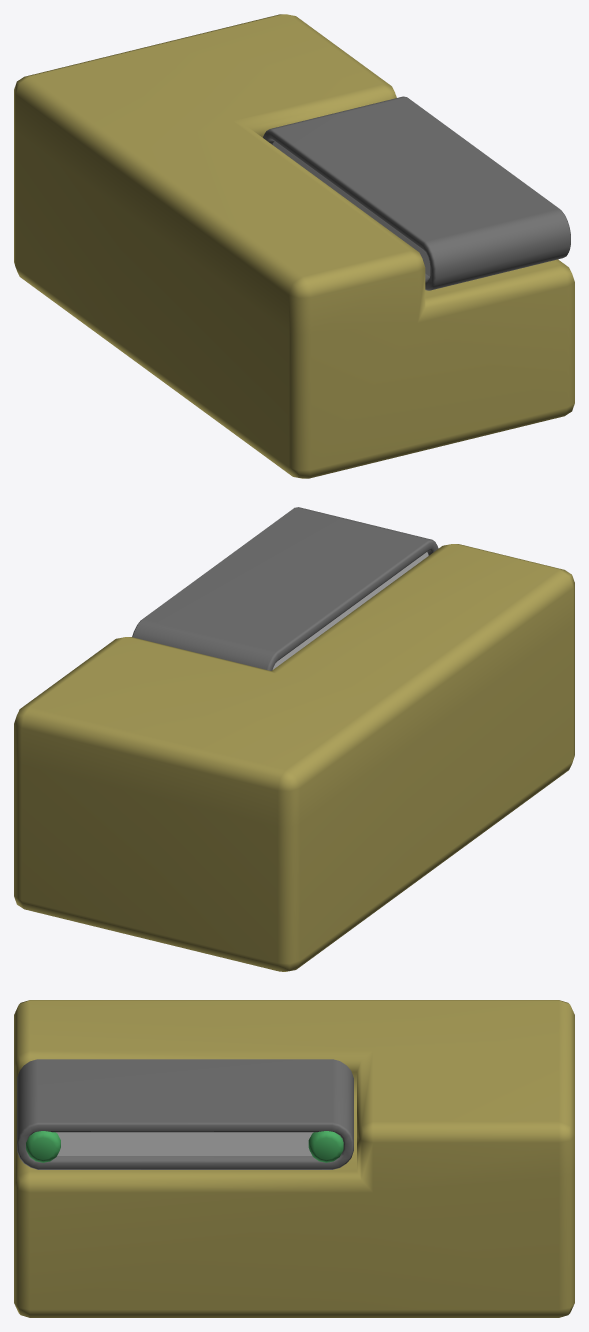
The model's file is mdl_table.fbx.
3 renders of one model, top to bottom at view 1: azimuth 30°, elevation 25°; view 2: azimuth 150°, elevation 25°; view 3: azimuth 270°, elevation 25°, orthographic. The views are drawn at different scales.
Visible parts, largest first — view 1: pCube37; view 2: pCube37; view 3: pCube37.
Boxes of the visible parts, x1,y1,x2,y2 form: pCube37: (14,14,574,478); pCube37: (14,507,574,971); pCube37: (14,1000,574,1317).
Size of the model in its own units: 89.02 by 60.86 by 157.
